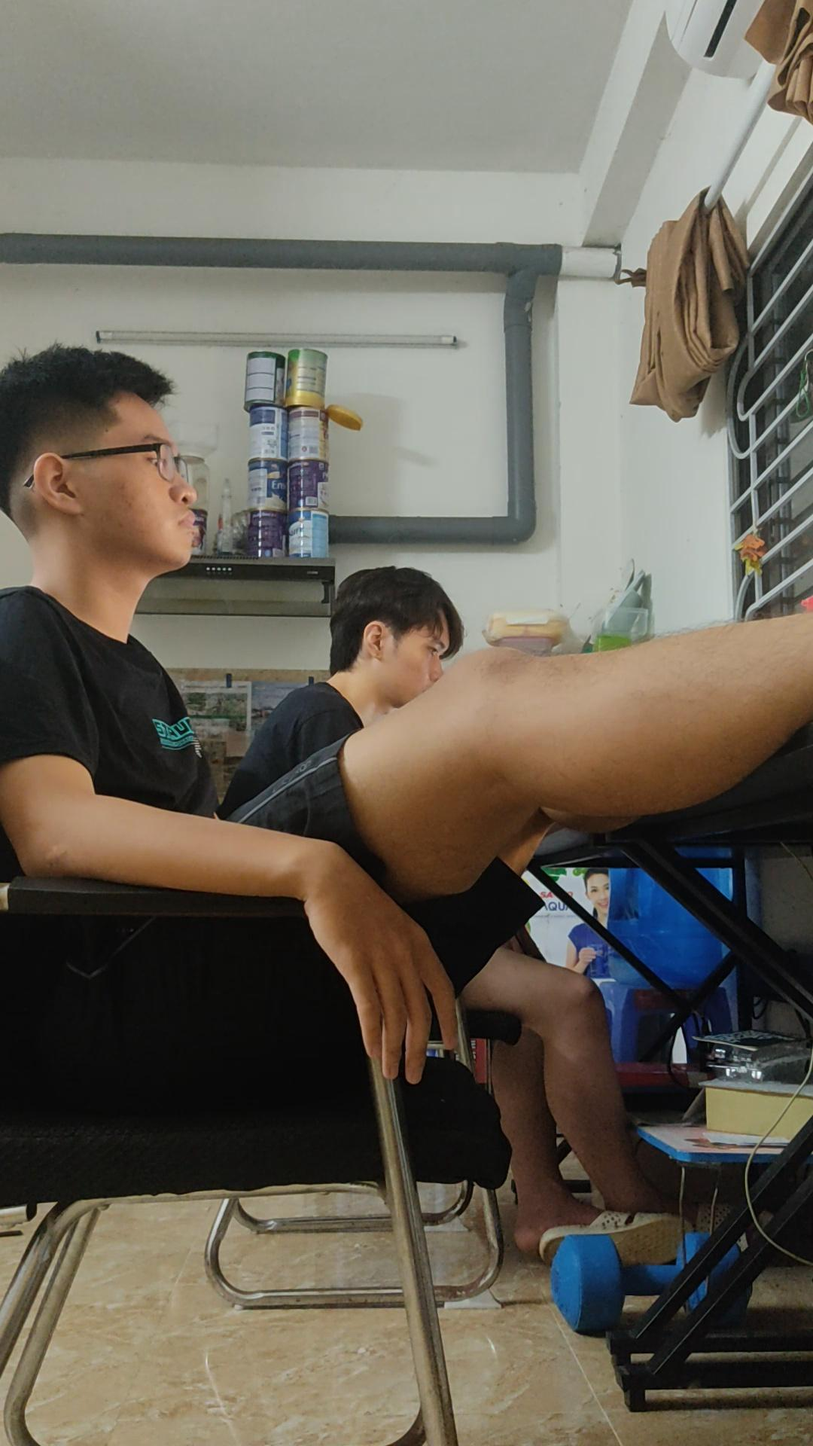BadPosture: (336, 616, 812, 898)
